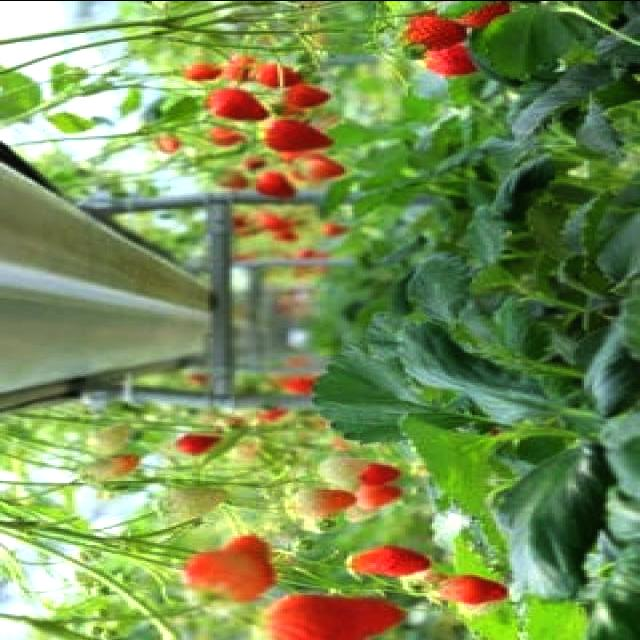ripe: (264, 593, 407, 640), (184, 548, 274, 596), (278, 486, 369, 521), (344, 546, 436, 578), (399, 11, 474, 50), (258, 116, 332, 150), (436, 572, 510, 604), (207, 88, 266, 122), (247, 59, 307, 91), (421, 41, 479, 74), (166, 430, 222, 463), (352, 477, 400, 513), (281, 82, 340, 110), (295, 154, 352, 180), (248, 172, 304, 198), (177, 60, 224, 82)
unripe: (152, 482, 232, 528), (312, 452, 380, 489)
